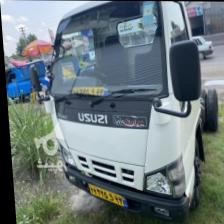plate: (86, 182, 125, 208)
